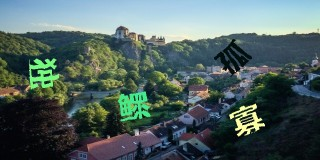孤: (213, 39, 252, 76)
寡: (228, 102, 267, 137)
独: (26, 57, 60, 89)
鳏: (118, 91, 149, 122)
